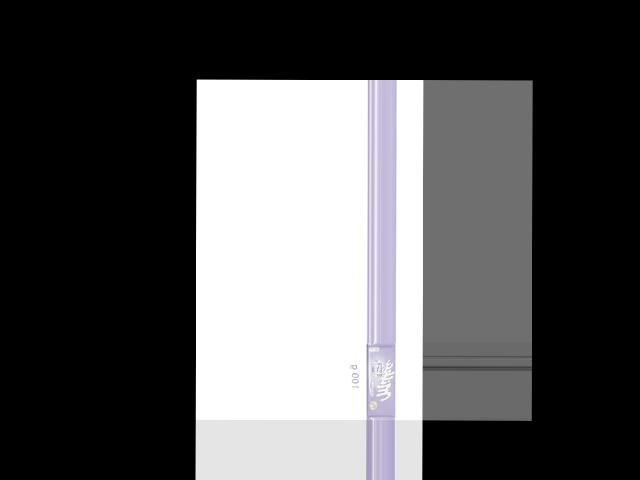chocolate: (360, 341, 396, 418)
